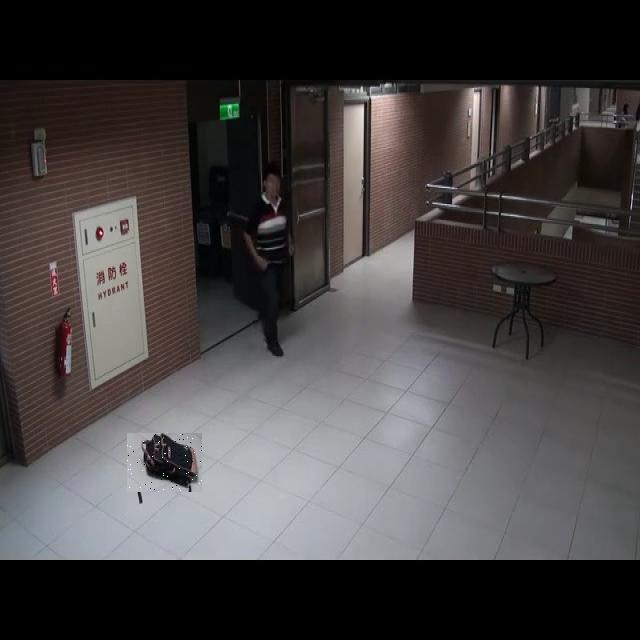abandoned-object: (127, 433, 202, 492)
